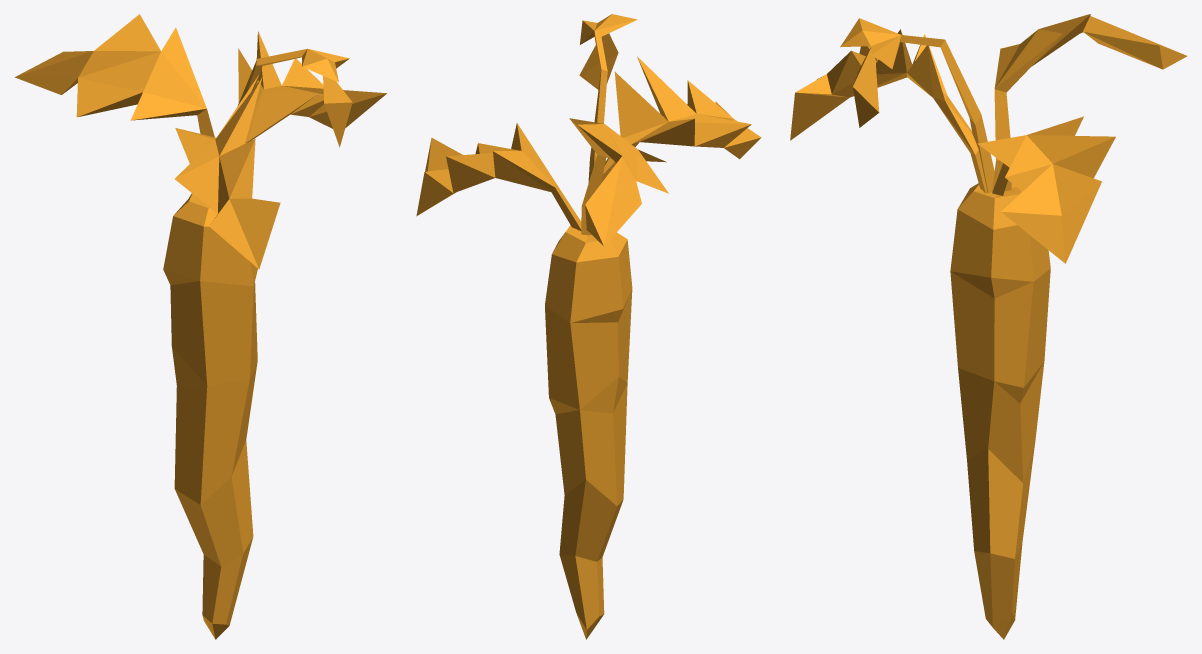
The model's file is SM_Carrot_Plant_Dead_Root.fbx.
The picture shows the model from 3 angles, left to right: view 1: azimuth 30°, elevation 25°; view 2: azimuth 150°, elevation 25°; view 3: azimuth 270°, elevation 25°; orthographic projection. The views are drawn at different scales.
Parts seen in each view (by area): view 1: carrot-plant-dead-root; view 2: carrot-plant-dead-root; view 3: carrot-plant-dead-root.
Boxes of the visible parts, x1,y1,x2,y2 form: carrot-plant-dead-root: (14, 14, 386, 639); carrot-plant-dead-root: (416, 14, 761, 639); carrot-plant-dead-root: (790, 14, 1187, 639).
Size of the model in its own units: 0.2334 by 0.4866 by 0.2784.
